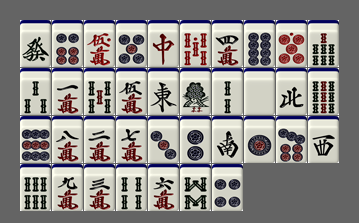0m: (84, 20, 115, 67)
0p: (276, 20, 307, 67)
0s: (180, 20, 211, 67)
1m: (52, 68, 83, 115)
1p: (244, 116, 275, 163)
1s: (180, 68, 211, 115)
1z: (148, 68, 179, 115)
2m: (84, 116, 115, 163)
2p: (180, 116, 211, 163)
2s: (212, 68, 243, 115)
2z: (212, 116, 243, 163)
3m: (84, 164, 115, 211)
3p: (148, 116, 179, 163)
3s: (20, 68, 51, 115)
3z: (308, 116, 339, 163)
4m: (212, 20, 243, 67)
4p: (212, 164, 243, 211)
4s: (116, 164, 147, 211)
4z: (276, 68, 307, 115)
5m: (116, 68, 147, 115)
5p: (116, 20, 147, 67)
5s: (84, 68, 115, 115)
5z: (244, 68, 275, 115)
6m: (148, 164, 179, 211)
6p: (52, 20, 83, 67)
6s: (20, 164, 51, 211)
6z: (20, 20, 51, 67)
7m: (116, 116, 147, 163)
7p: (276, 116, 307, 163)
7s: (308, 20, 339, 67)
7z: (148, 20, 179, 67)
8m: (52, 116, 83, 163)
8p: (244, 20, 275, 67)
8s: (180, 164, 211, 211)
9m: (52, 164, 83, 211)
9p: (20, 116, 51, 163)
9s: (308, 68, 339, 115)
